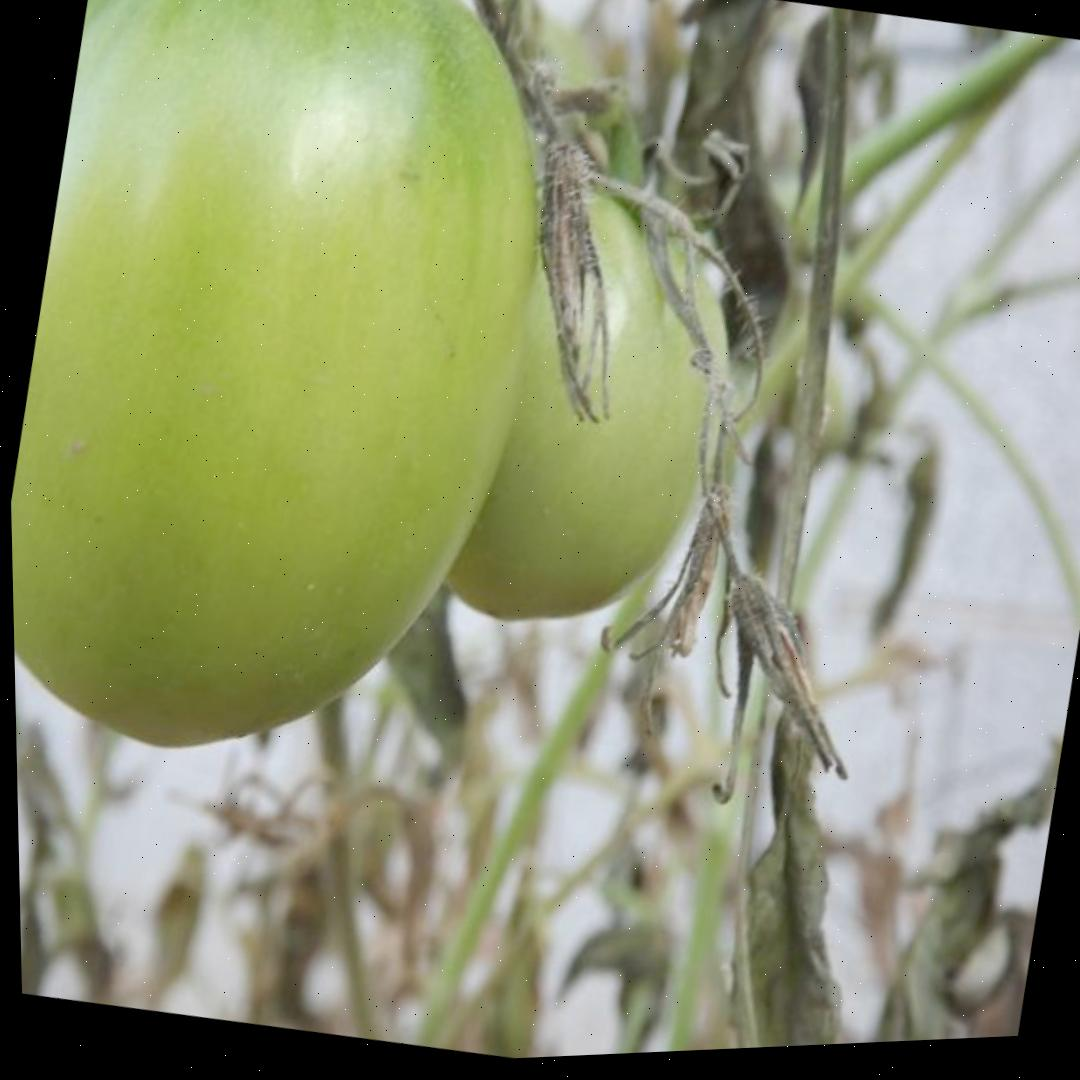mentah: (0, 0, 606, 809)
